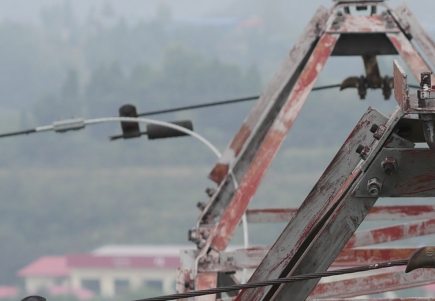damper_defect: (107, 102, 196, 142)
